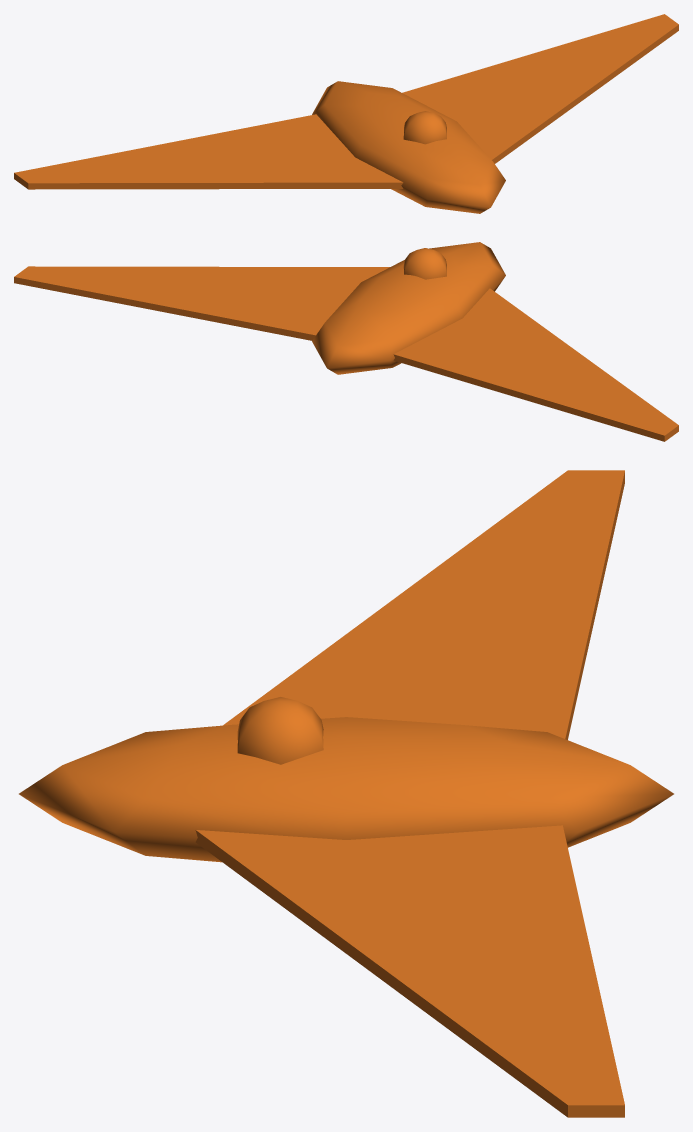
Rendered from fighter-flying-wing-502.glb.
3 renders of one model, top to bottom at view 1: azimuth 30°, elevation 25°; view 2: azimuth 150°, elevation 25°; view 3: azimuth 270°, elevation 25°, orthographic. The views are drawn at different scales.
Bounding box in the file's own units: 1.87 × 0.2066 × 0.8183.
